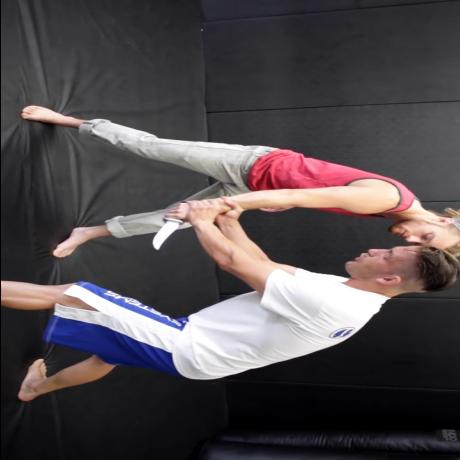1: (0, 198, 459, 402), (18, 102, 460, 260)
weapon: (150, 201, 188, 250)
